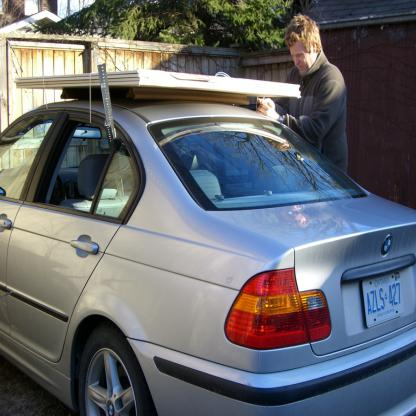Car: (0, 63, 415, 415)
